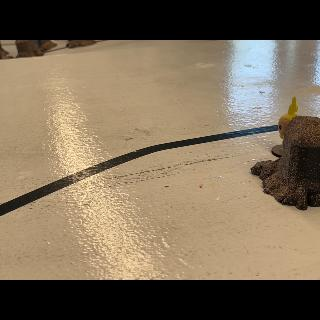teletubby: (271, 97, 298, 157)
